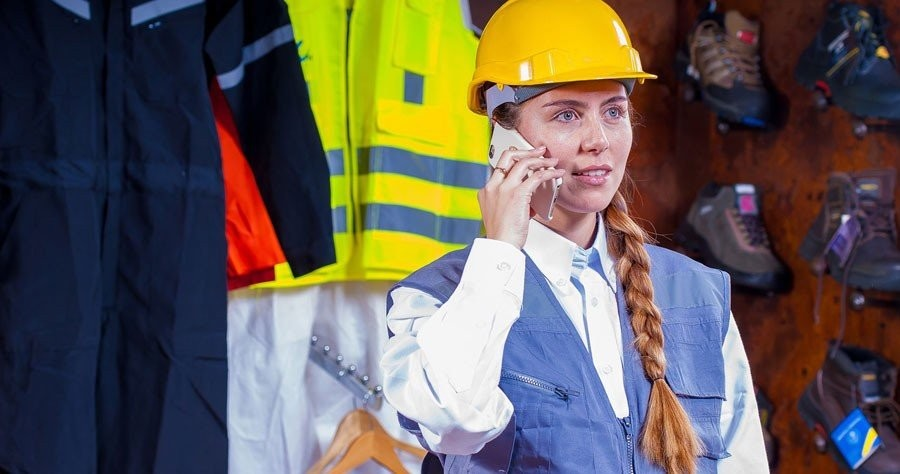Hard Hat: (464, 1, 654, 85)
High Viz: (299, 1, 486, 275)
